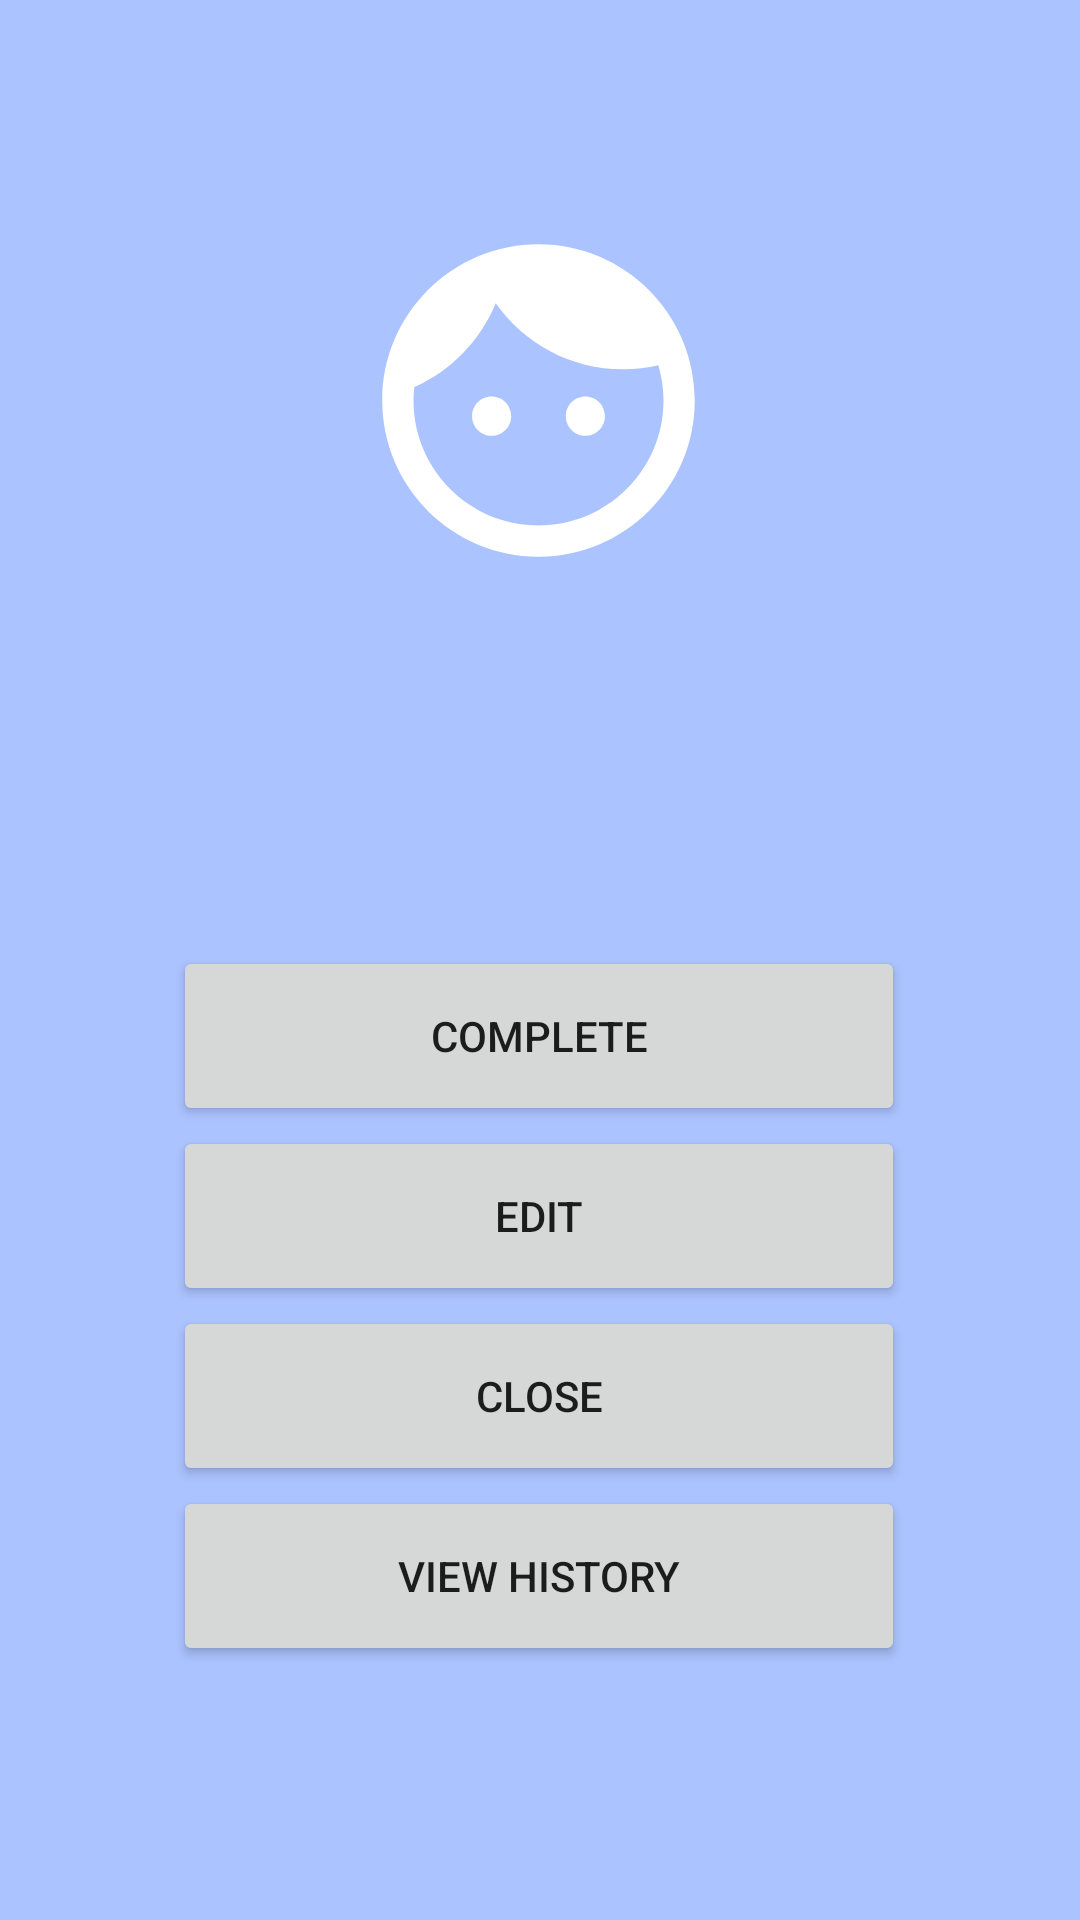

Locate icon controls on the screen. Image size 1080 × 1920, boxes as (x1, y1, x2, y2).
child portrait: (382, 244, 695, 557)
